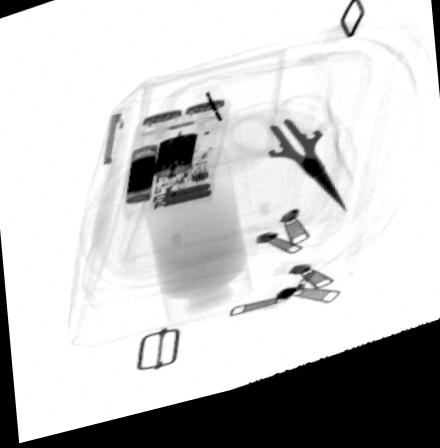Scissors: (223, 108, 347, 232)
